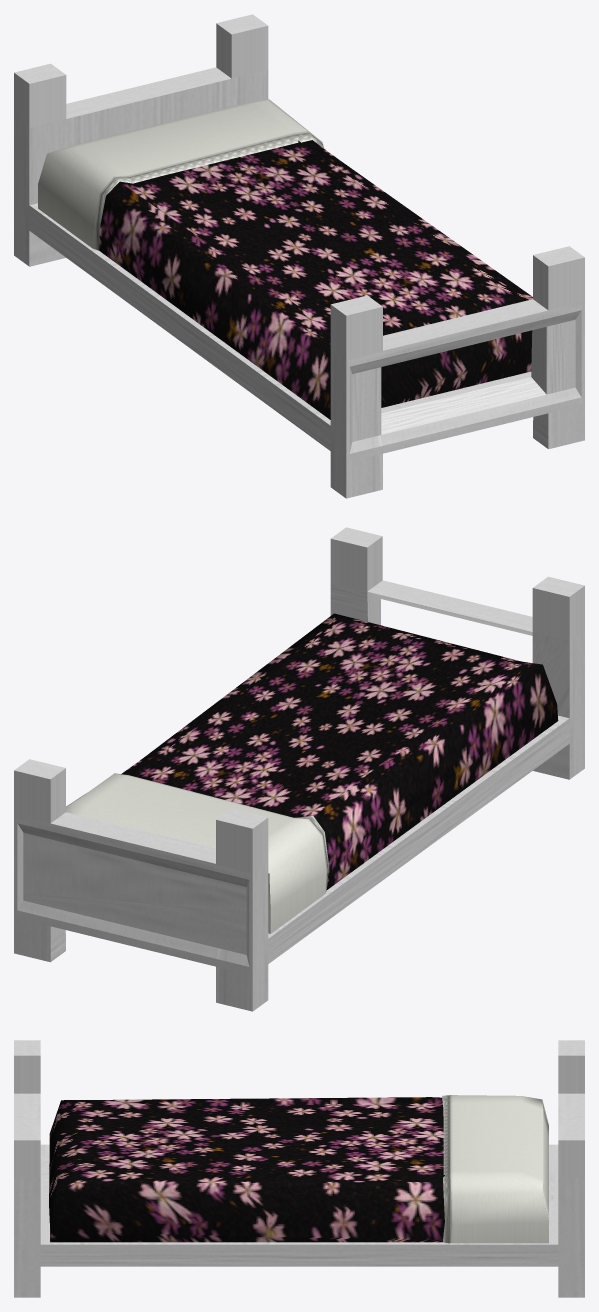
The model's file is Kiddie_Bed_C.FBX.
3 renders of one model, top to bottom at view 1: azimuth 30°, elevation 25°; view 2: azimuth 150°, elevation 25°; view 3: azimuth 270°, elevation 25°, orthographic. The views are drawn at different scales.
Visible parts, largest first — view 1: Kiddie_Bed; view 2: Kiddie_Bed; view 3: Kiddie_Bed.
Boxes of the visible parts, box(x1,y1,x2,y2) form: Kiddie_Bed: box(14, 14, 584, 498); Kiddie_Bed: box(14, 527, 584, 1011); Kiddie_Bed: box(14, 1040, 584, 1297).
Size of the model in its own units: 185 by 135 by 445.
